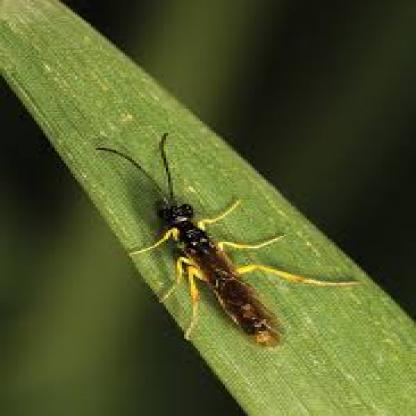sawfly: (100, 137, 359, 346)
